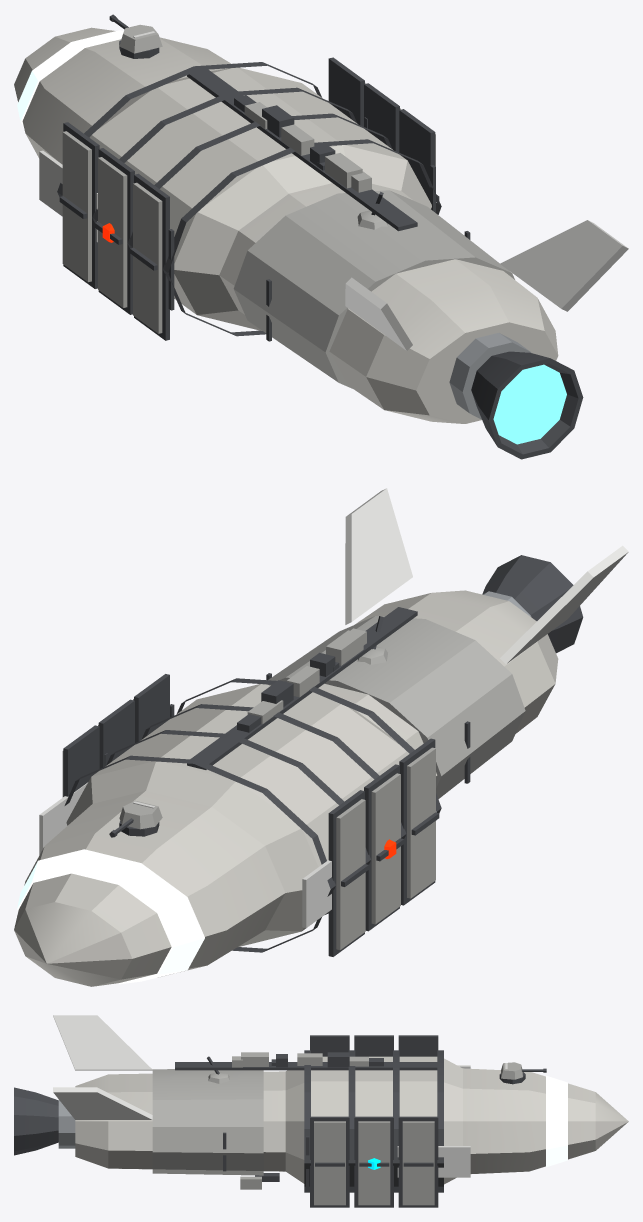
Rendered from unit_trader_60.glb.
3 renders of one model, top to bottom at view 1: azimuth 30°, elevation 25°; view 2: azimuth 150°, elevation 25°; view 3: azimuth 270°, elevation 25°, orthographic. The views are drawn at different scales.
Visible parts, largest first — view 1: Hull, Turret_4; view 2: Hull, Turret_4; view 3: Hull, Turret_4.
Boxes of the visible parts, bbox=[...] form: Hull: bbox=[14, 27, 628, 459]; Turret_4: bbox=[109, 14, 162, 58]; Hull: bbox=[14, 488, 628, 986]; Turret_4: bbox=[109, 800, 162, 837]; Hull: bbox=[14, 1015, 628, 1207]; Turret_4: bbox=[499, 1062, 546, 1084].
Size of the model in its own units: 0.6823 by 0.4878 by 2.
